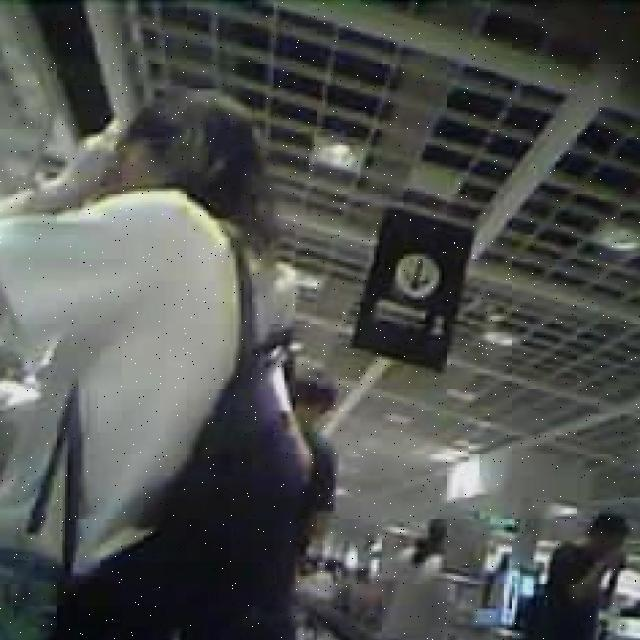person: (0, 110, 300, 640), (528, 511, 632, 640), (288, 362, 342, 550), (386, 517, 451, 640)
